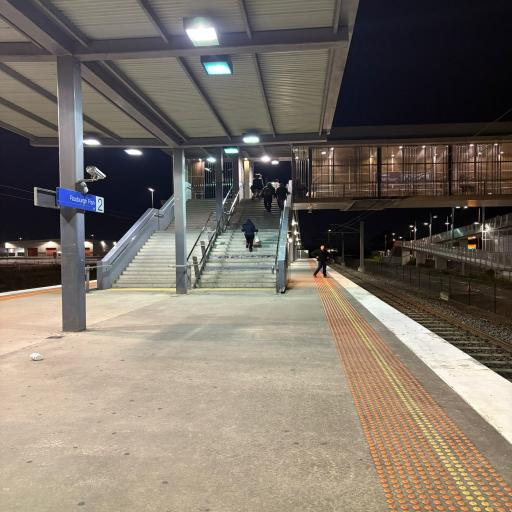clear_path: (7, 260, 421, 505)
handrail: (196, 185, 242, 279)
platform_edge: (325, 265, 509, 400)
signage: (58, 188, 104, 213)
stairs: (195, 198, 283, 285), (111, 231, 176, 286)
tgsi: (307, 259, 511, 508), (1, 288, 61, 301), (197, 288, 275, 291), (107, 288, 176, 290)
